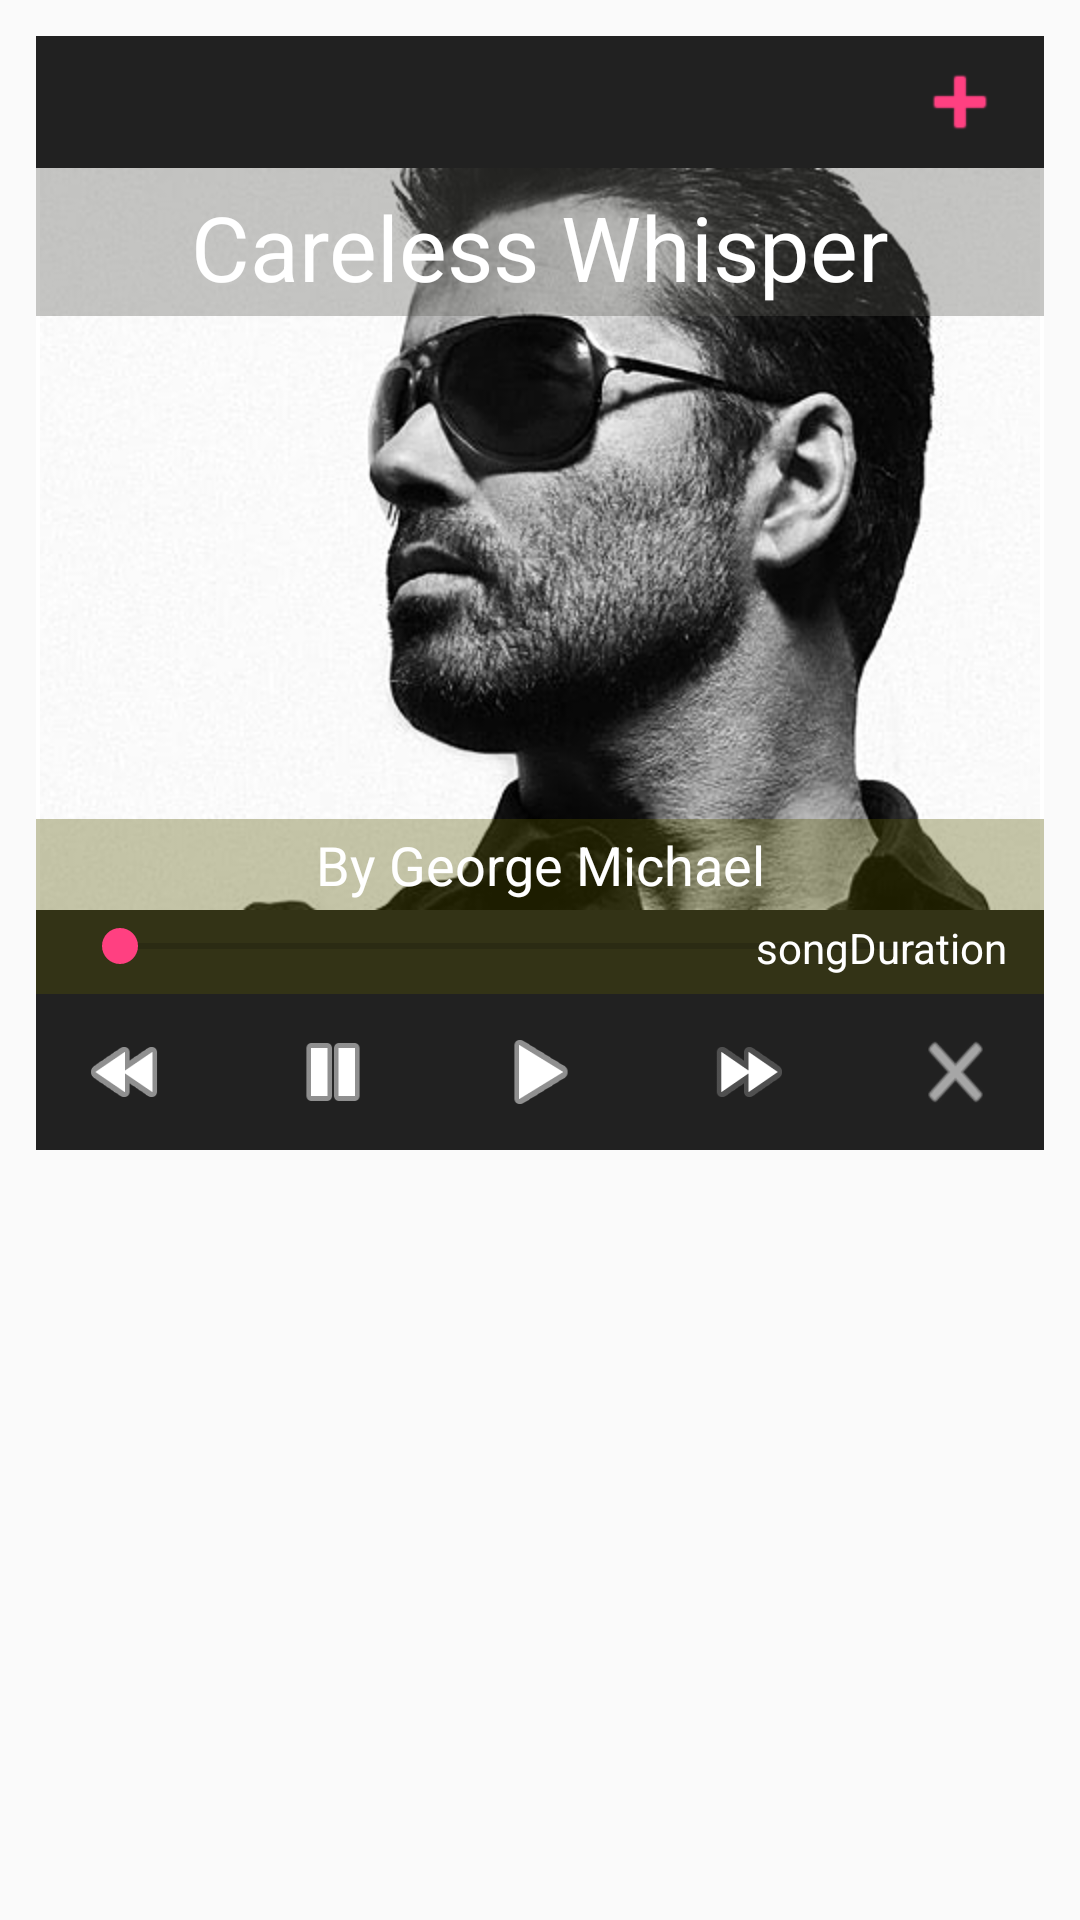

Icon bounding boxes for this 1080*1920 phone screenshot, format (x1=x1, y1=y1, x2=x2, y2=y2):
add: (x1=933, y1=75, x2=987, y2=129)
close clear cancel: (x1=928, y1=1042, x2=983, y2=1102)
pause: (x1=306, y1=1043, x2=360, y2=1101)
play: (x1=514, y1=1040, x2=568, y2=1104)
rew: (x1=91, y1=1047, x2=157, y2=1097)
